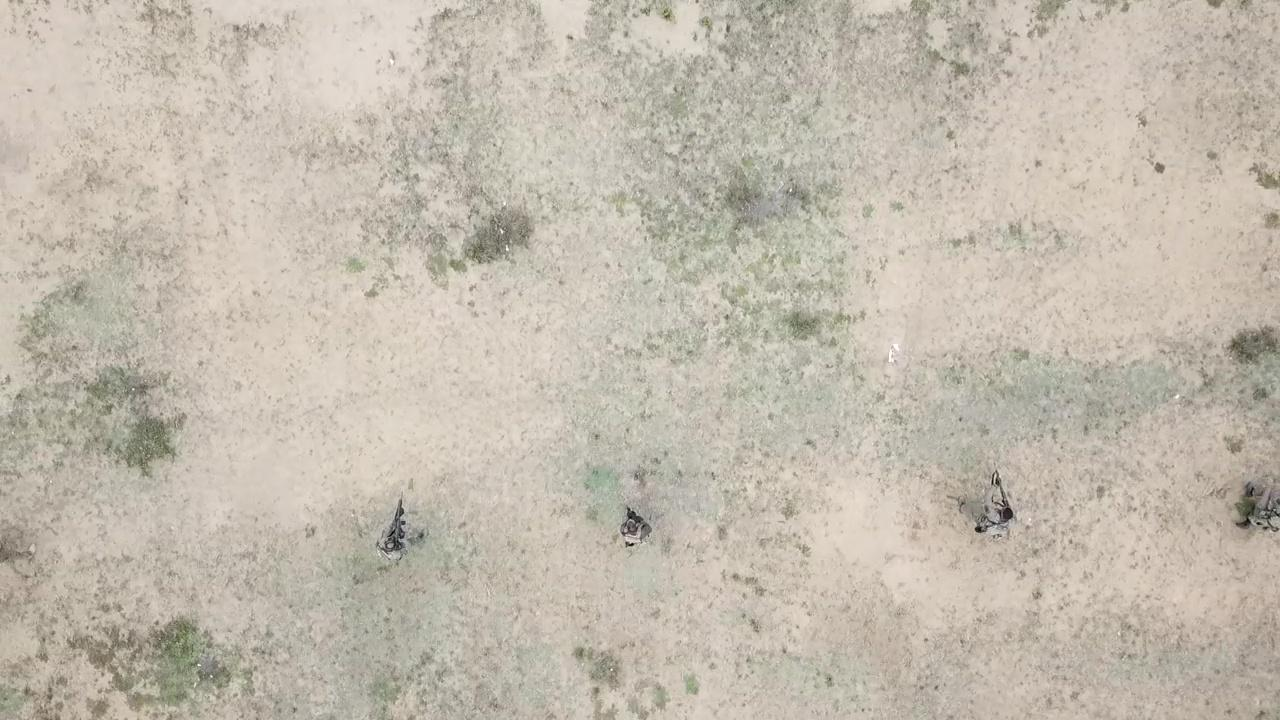Soldier: (947, 454, 1023, 545), (373, 487, 432, 577), (616, 495, 665, 551)
